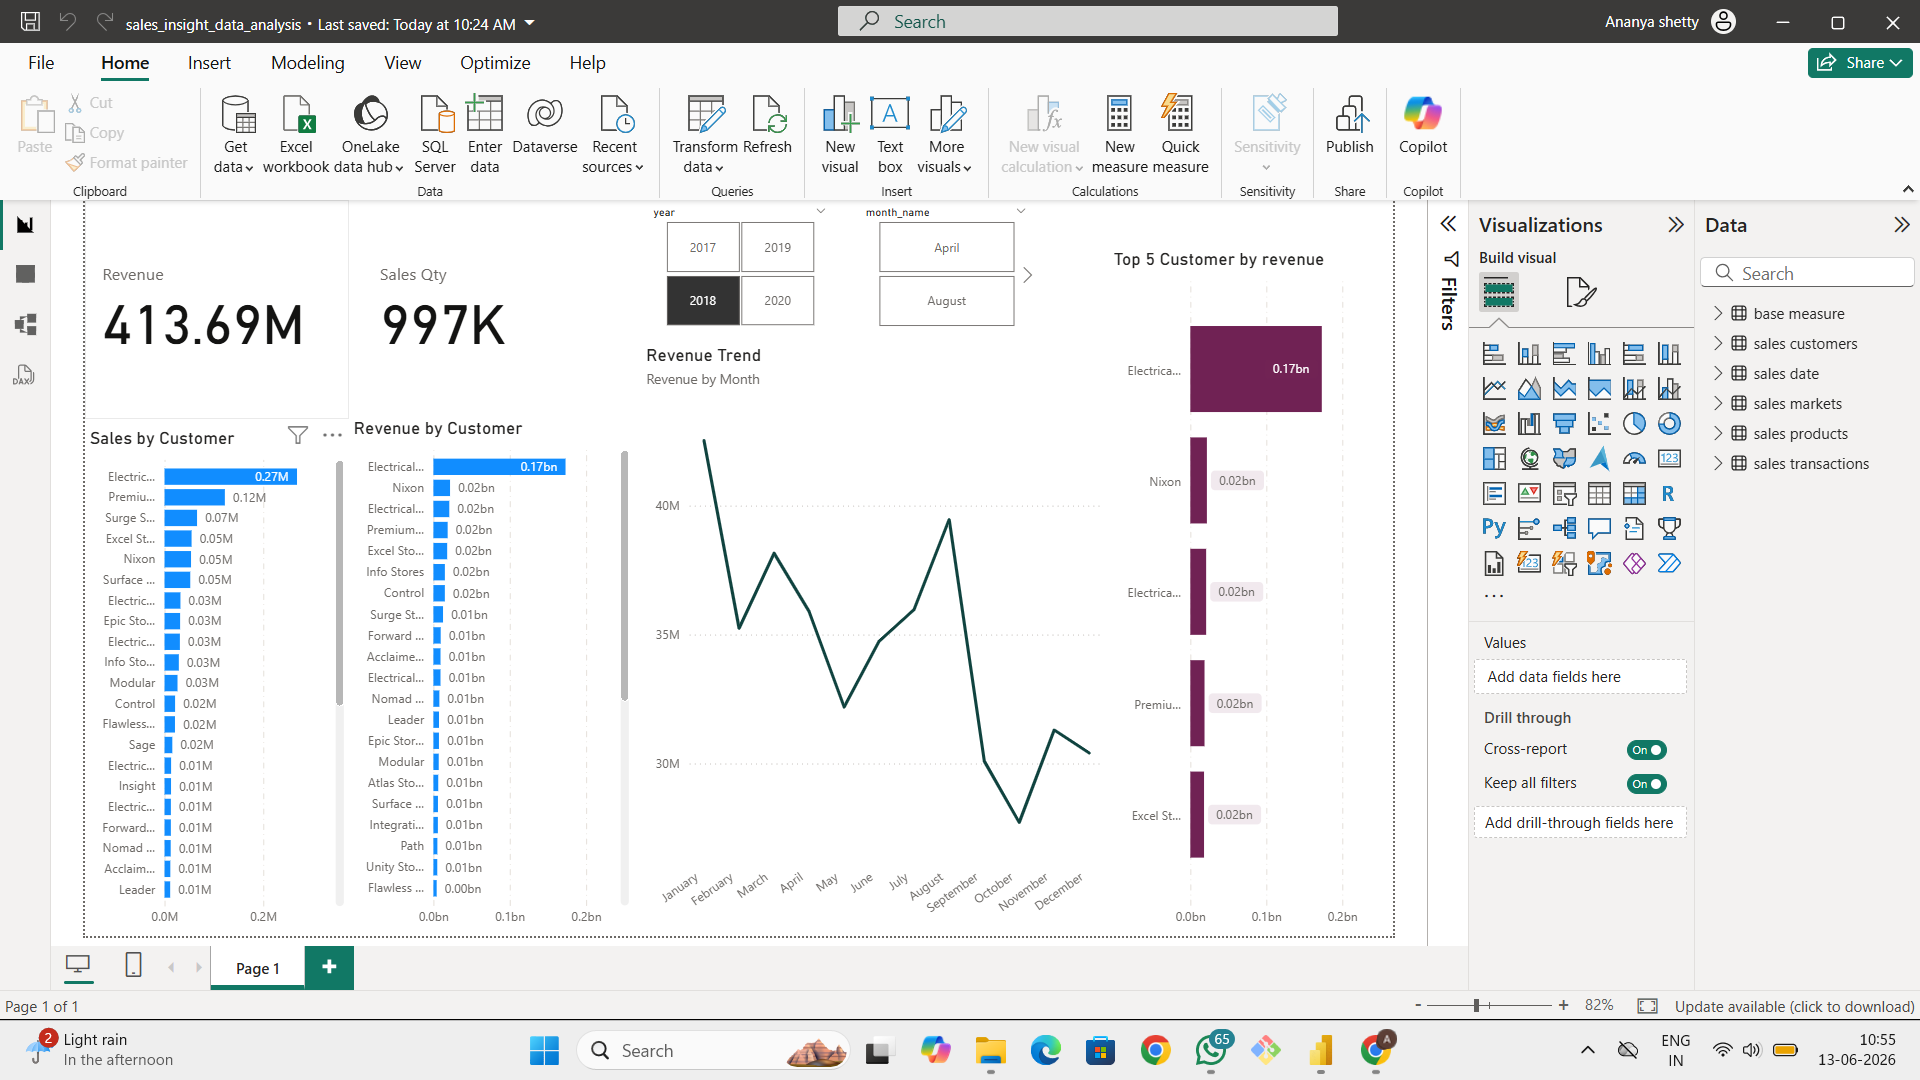

This screenshot's page, from the dashboard's own definition file:
{"tool":"powerbi","page":{"name":"Page 1","canvas":[1280,720],"ordinal":0},"visuals":[{"type":"cardVisual","fields":{"Data":["base measure.Revenue"]},"box":[0,0,258.6,213.8],"z":0},{"type":"cardVisual","fields":{"Data":["base measure.Sales Qty"]},"box":[270.9,0,258.3,213.6],"z":1000},{"type":"slicer","fields":{"Values":["sales date.year"]},"box":[542.9,0,194.4,129.6],"z":2000},{"type":"slicer","fields":{"Values":["sales date.month_name"]},"box":[750.5,0,182.5,130.1],"z":3000},{"type":"barChart","title":"Sales by Customer","fields":{"Y":["base measure.Sales Qty"],"Category":["sales customers.custmer_name"]},"box":[0,222.1,258.4,497.4],"z":4000},{"type":"barChart","title":"Revenue by Customer","fields":{"Y":["base measure.Revenue"],"Category":["sales customers.custmer_name"]},"box":[258.4,213,279.2,506.5],"z":5000},{"type":"barChart","title":"Top 5 Customer by revenue ","fields":{"Y":["base measure.Revenue"],"Category":["sales customers.custmer_name"]},"box":[1001.3,48.1,267.5,671.4],"z":6000},{"type":"lineChart","title":"Revenue Trend","fields":{"Y":["base measure.Revenue"],"Category":["sales date.cy_date.Variation.Date Hierarchy.Month"]},"box":[544.2,141.6,457.1,577.9],"z":7000}]}

Visuals, with their boxes on the page's 1280x720 design canvas (x1, y1, x2, y2). These are canvas units, not pixel positions in the 1920x1080 screenshot, which may show the page scaled, cropped or inside an application window:
cardVisual - base measure.Revenue: x1=0, y1=0, x2=259, y2=214
cardVisual - base measure.Sales Qty: x1=271, y1=0, x2=529, y2=214
slicer - sales date.year: x1=543, y1=0, x2=737, y2=130
slicer - sales date.month_name: x1=750, y1=0, x2=933, y2=130
"Sales by Customer" barChart: x1=0, y1=222, x2=258, y2=720
"Revenue by Customer" barChart: x1=258, y1=213, x2=538, y2=720
"Top 5 Customer by revenue " barChart: x1=1001, y1=48, x2=1269, y2=720
"Revenue Trend" lineChart: x1=544, y1=142, x2=1001, y2=720
